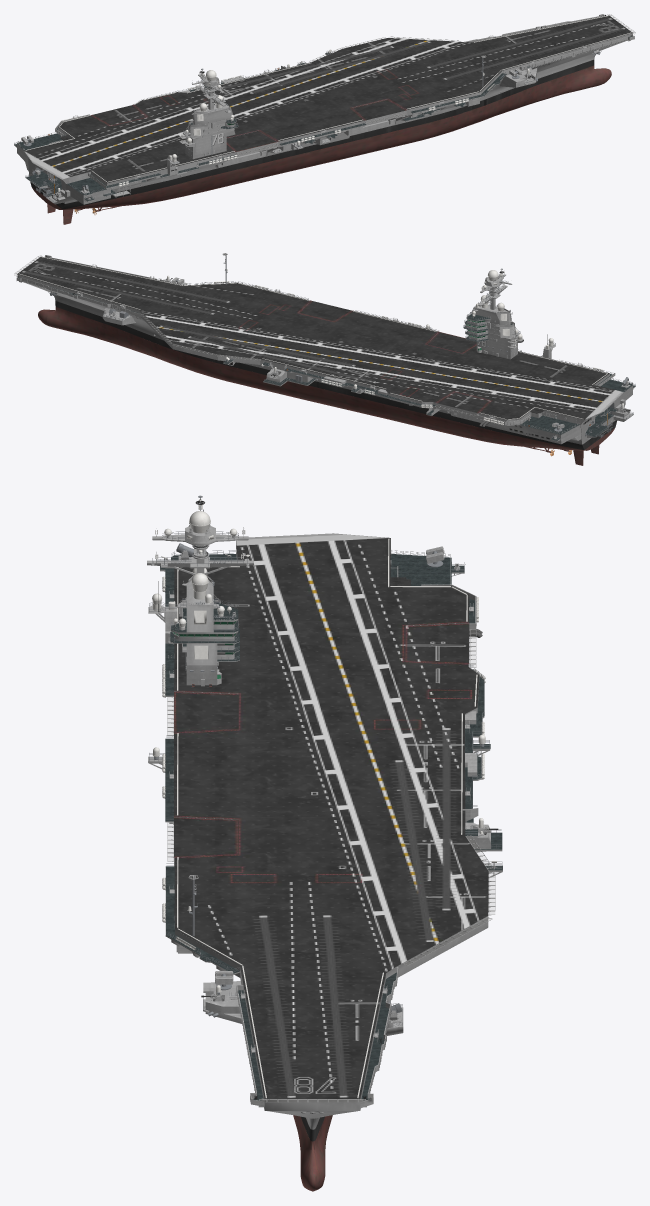
Rendered from carrier.glb.
3 views of the same model, one above another, from view 1: azimuth 30°, elevation 25°; view 2: azimuth 150°, elevation 25°; view 3: azimuth 270°, elevation 25° (orthographic). The views are drawn at different scales.
Parts seen in each view (by area): view 1: Object_4, Object_3, Object_8, Object_21, Object_15, Object_5, Object_28, Object_19; view 2: Object_4, Object_3, Object_8, Object_21, Object_15, Object_5, Object_28, Object_19; view 3: Object_4, Object_21, Object_5, Object_8, Object_28, Object_19, Object_3.
Part boxes in pixels (left/top/right/bottom): Object_4: left=24, top=15, right=632, bottom=183; Object_3: left=32, top=65, right=611, bottom=224; Object_8: left=17, top=33, right=632, bottom=204; Object_21: left=14, top=14, right=635, bottom=201; Object_15: left=30, top=15, right=632, bottom=209; Object_5: left=14, top=36, right=631, bottom=200; Object_28: left=25, top=15, right=631, bottom=192; Object_19: left=14, top=36, right=601, bottom=202; Object_4: left=17, top=256, right=623, bottom=419; Object_3: left=38, top=307, right=614, bottom=465; Object_8: left=17, top=274, right=633, bottom=444; Object_21: left=14, top=253, right=635, bottom=441; Object_15: left=16, top=255, right=630, bottom=449; Object_5: left=18, top=277, right=635, bottom=440; Object_28: left=19, top=257, right=623, bottom=425; Object_19: left=48, top=255, right=635, bottom=439; Object_4: left=174, top=533, right=488, bottom=1098; Object_21: left=147, top=523, right=502, bottom=1113; Object_5: left=160, top=554, right=502, bottom=1100; Object_8: left=174, top=533, right=488, bottom=1129; Object_28: left=152, top=499, right=496, bottom=1098; Object_19: left=149, top=495, right=502, bottom=1026; Object_3: left=192, top=684, right=332, bottom=1191.
Bounding box in the file's own units: 120 × 27.65 × 31.43.
Materials: 13 (13 with a texture image).
